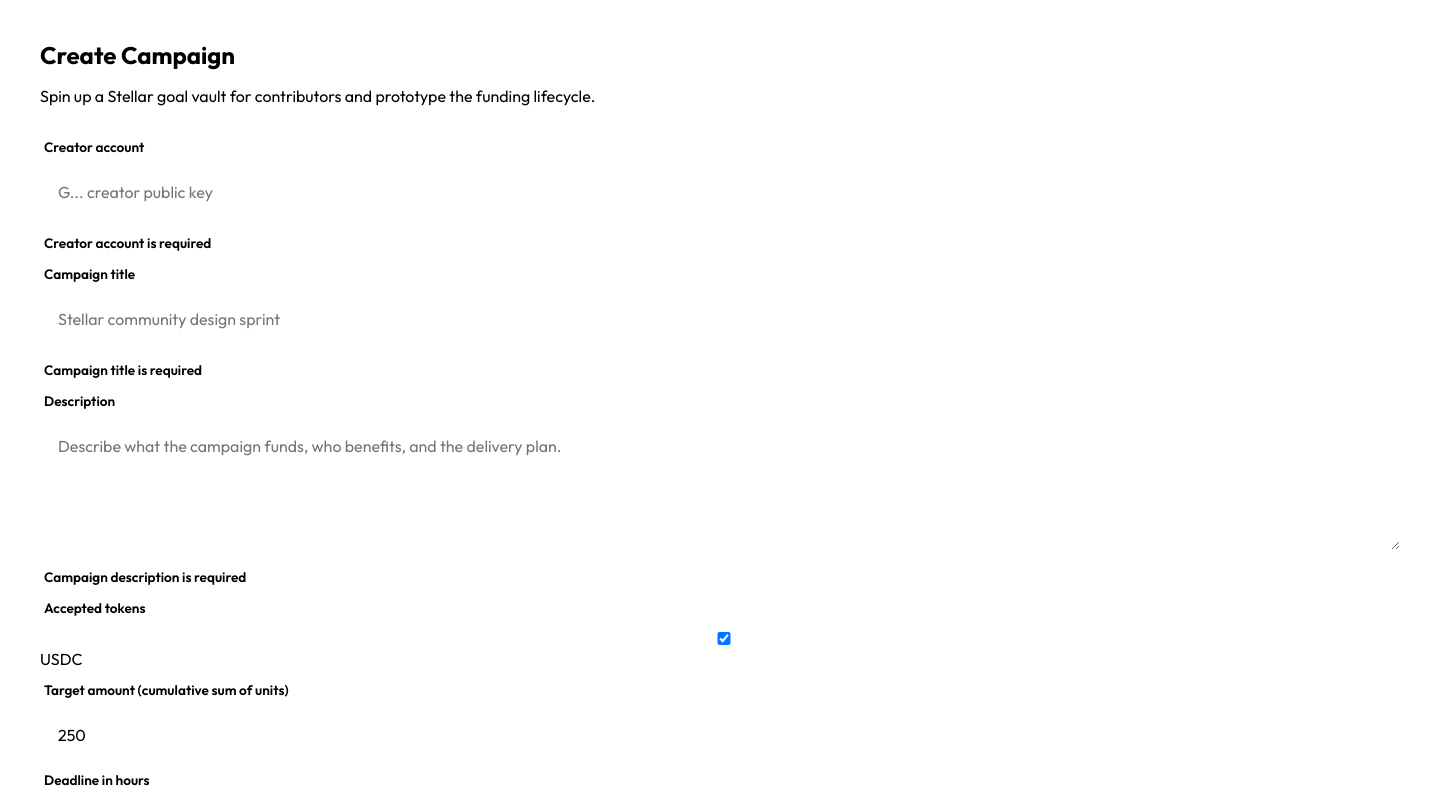
Scenario: CreateCampaignForm › Field Validation - Creator Account › shows error for invalid creator account length
Type "GSHORT" into the field with placeholder "G... creator public key" at (720, 192), box x1=40 y1=168 x2=1400 y2=216
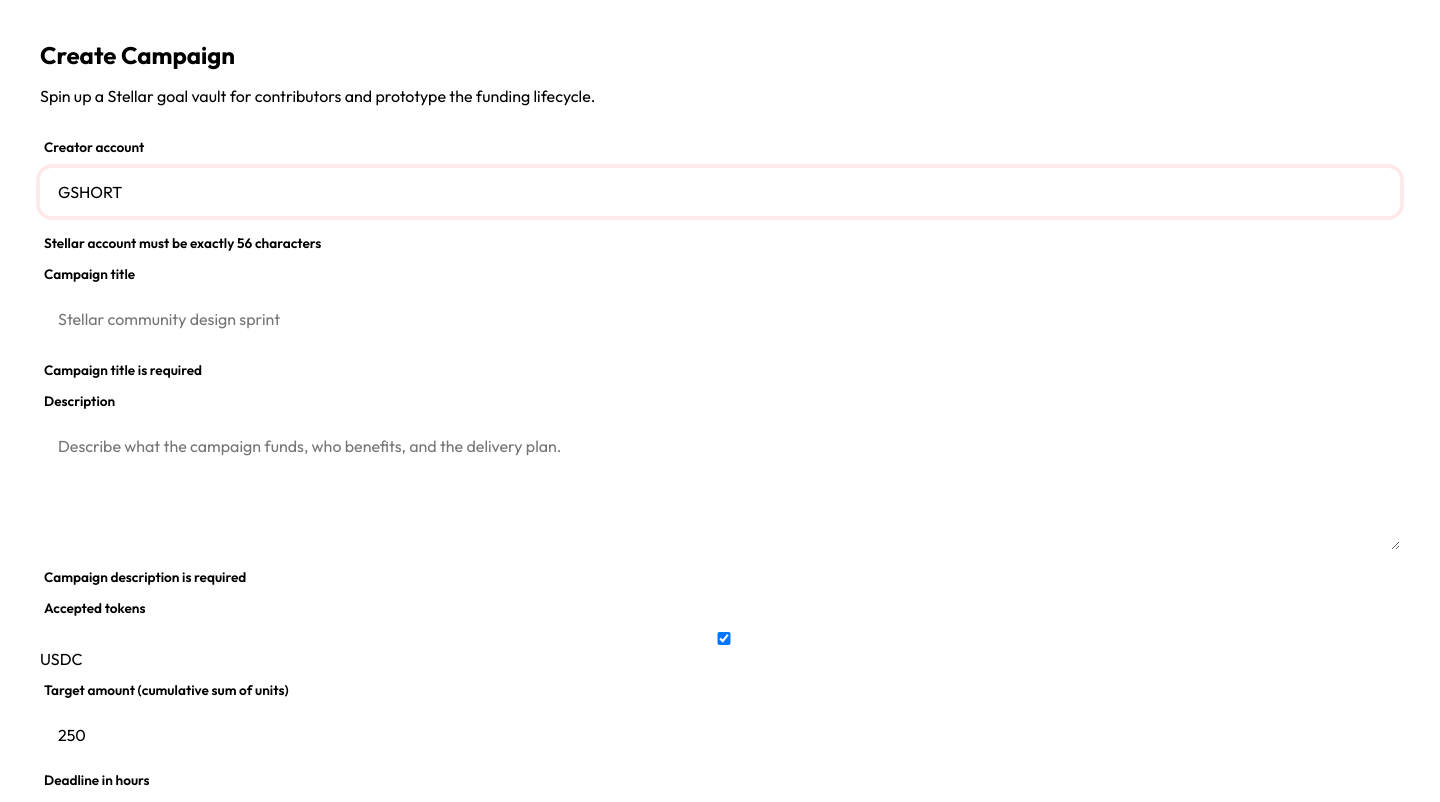
expect the text "Stellar account must be exactly 56 characters" is shown: met, box x1=44 y1=234 x2=321 y2=252
